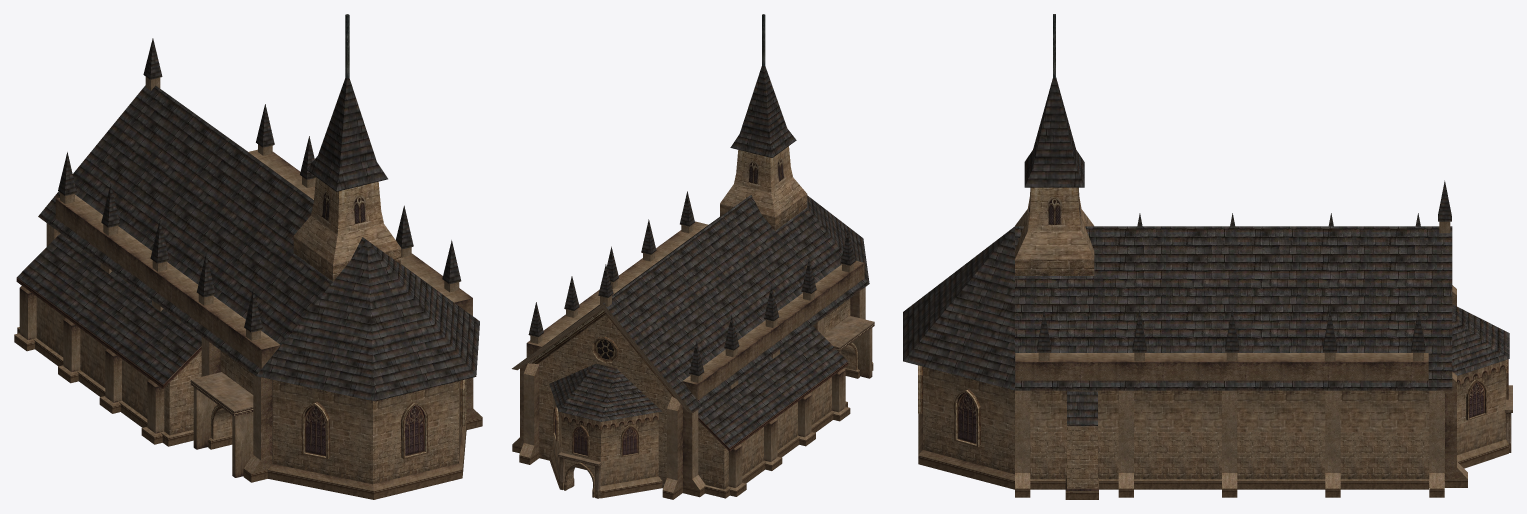
The model's file is ti_church.glb.
The picture shows the model from 3 angles, left to right: view 1: azimuth 30°, elevation 25°; view 2: azimuth 150°, elevation 25°; view 3: azimuth 270°, elevation 25°; orthographic projection. The views are drawn at different scales.
Visible parts, largest first — view 1: TI_Church; view 2: TI_Church; view 3: TI_Church.
Boxes of the visible parts, left/top/right/bottom form: TI_Church: left=14, top=14, right=482, bottom=499; TI_Church: left=512, top=14, right=874, bottom=499; TI_Church: left=903, top=14, right=1512, bottom=499.
Bounding box in the file's own units: 8.39 × 12.63 × 16.35.
17 materials, 17 textured.
